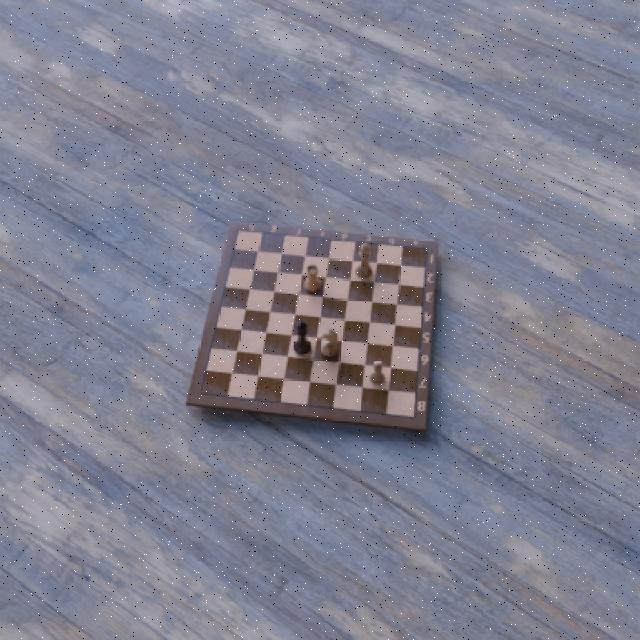black-king: (292, 319, 312, 357)
white-king: (354, 241, 373, 279)
white-knight: (321, 324, 339, 360)
white-pawn: (369, 357, 387, 387)
white-rook: (302, 261, 321, 295)
